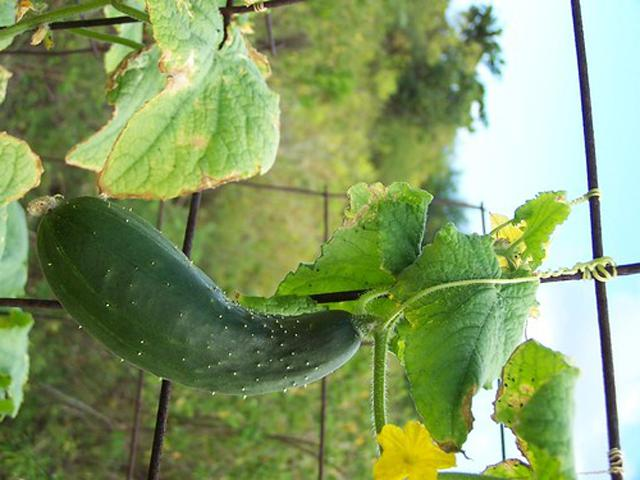cucumber: (35, 193, 365, 393)
